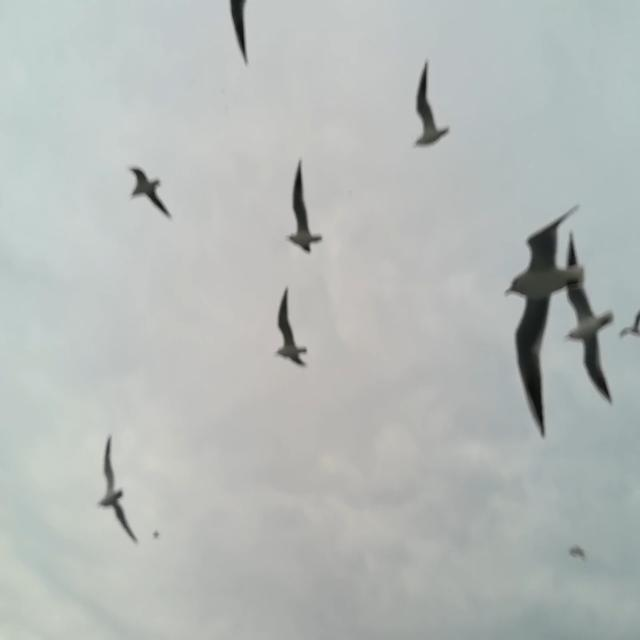bird: (503, 203, 584, 441), (564, 230, 615, 409), (98, 435, 141, 545), (413, 59, 452, 148), (286, 157, 322, 253), (272, 285, 310, 372), (124, 163, 174, 221), (226, 0, 252, 66), (617, 309, 640, 344), (566, 540, 588, 564), (152, 524, 162, 545)
